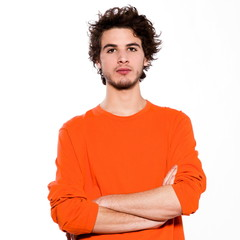teen: (104, 18, 151, 87)
